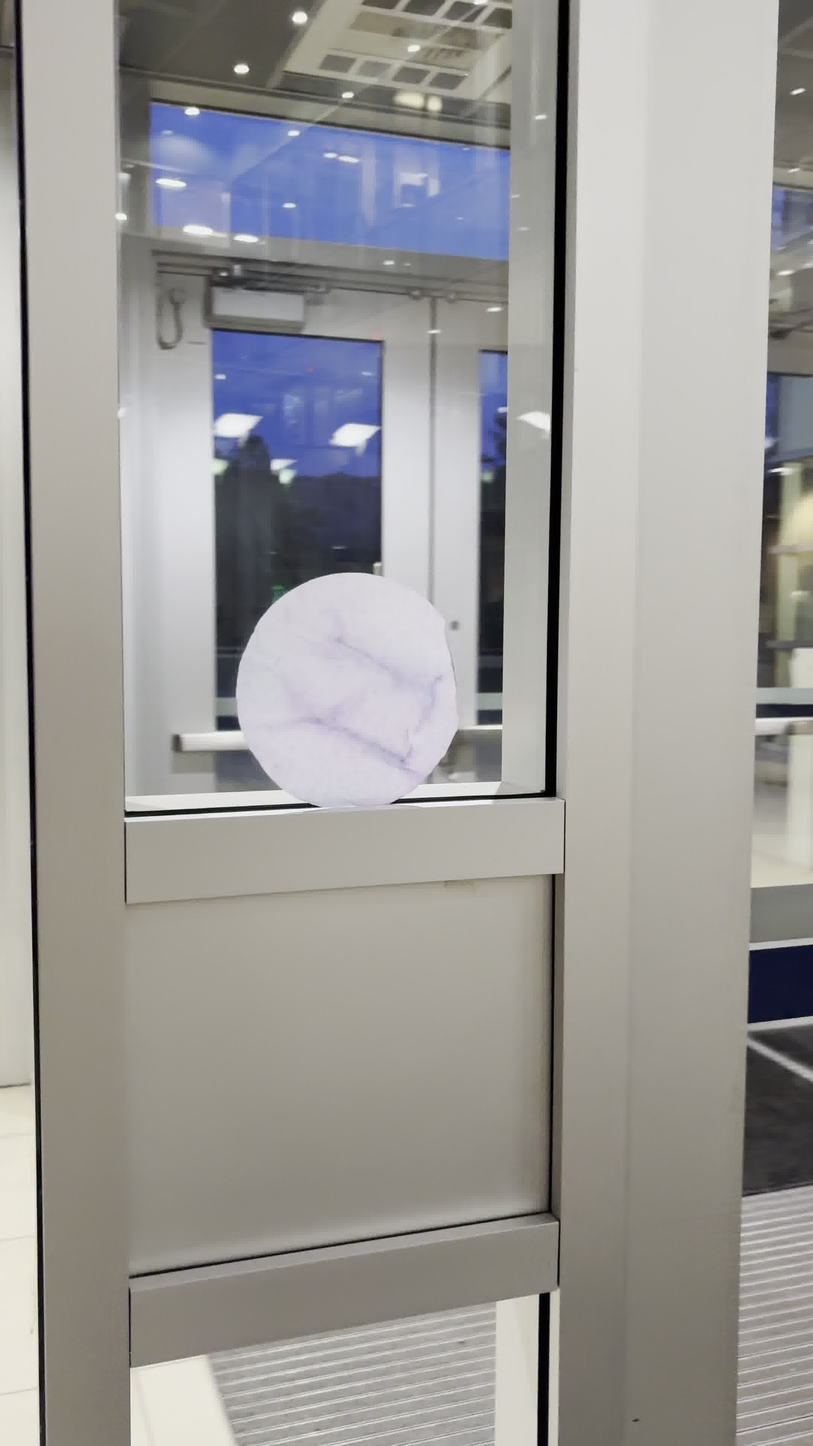Target: (234, 573, 459, 807)
